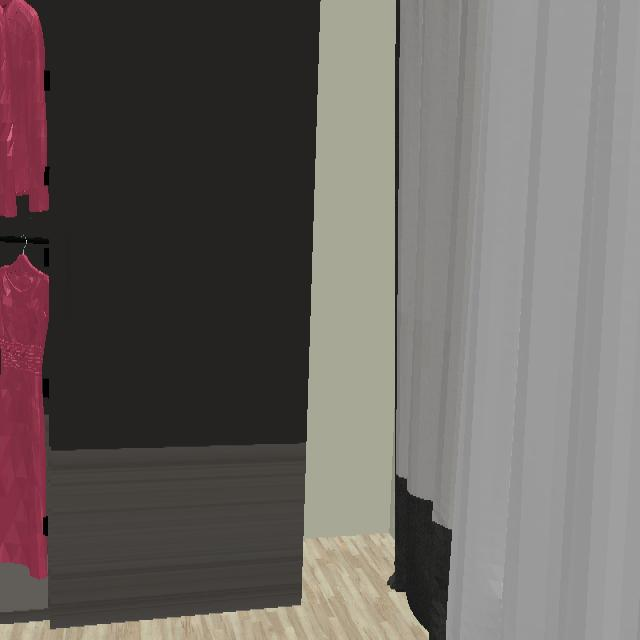wardrobe: (0, 0, 322, 632)
